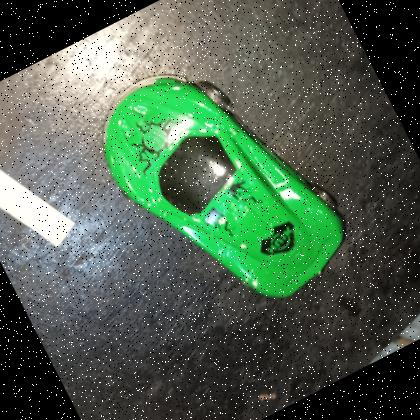Car: (78, 24, 366, 345)
